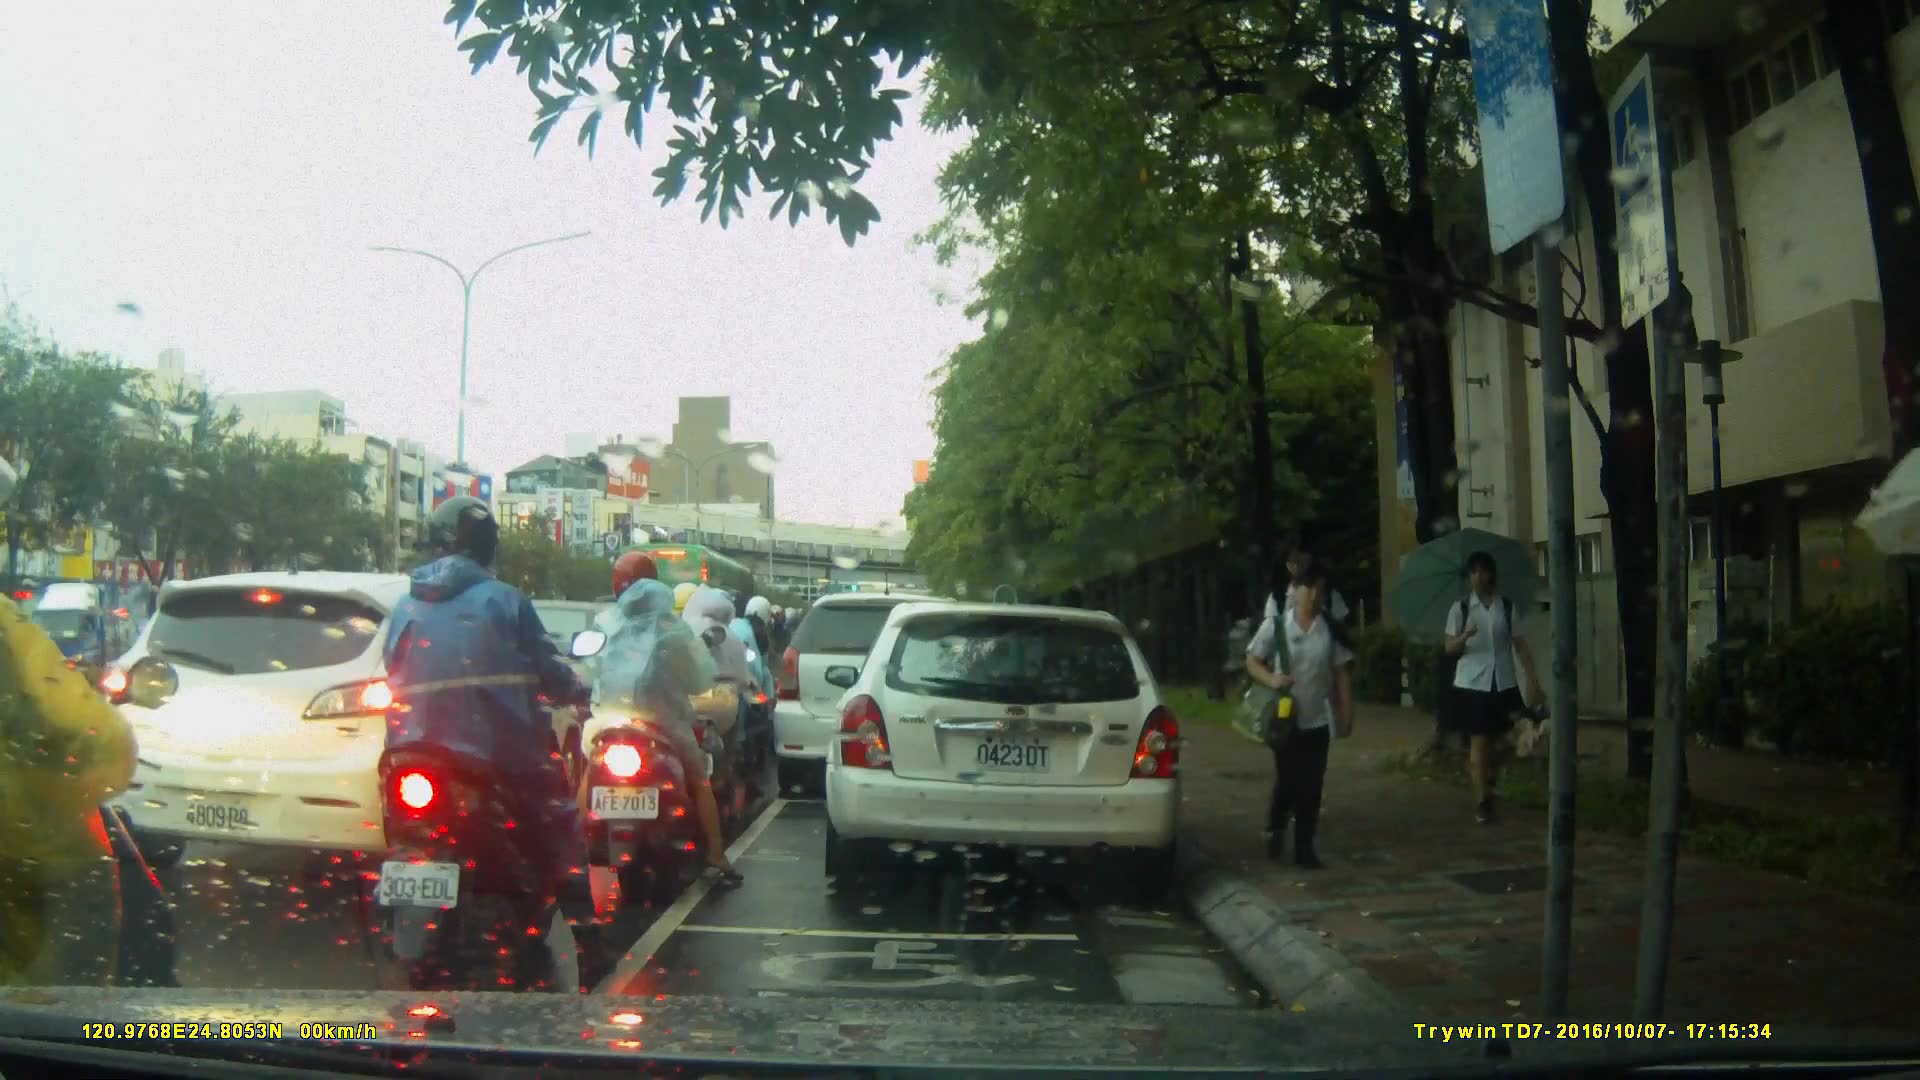pedestrian: (1233, 559, 1362, 866), (1437, 542, 1540, 831), (1268, 534, 1354, 842)
rider: (377, 490, 613, 968), (1, 455, 180, 1080), (564, 555, 746, 901), (640, 578, 764, 823), (699, 594, 781, 774)
vehicle: (94, 569, 617, 883), (822, 604, 1188, 883), (774, 595, 995, 802), (20, 576, 199, 697)
